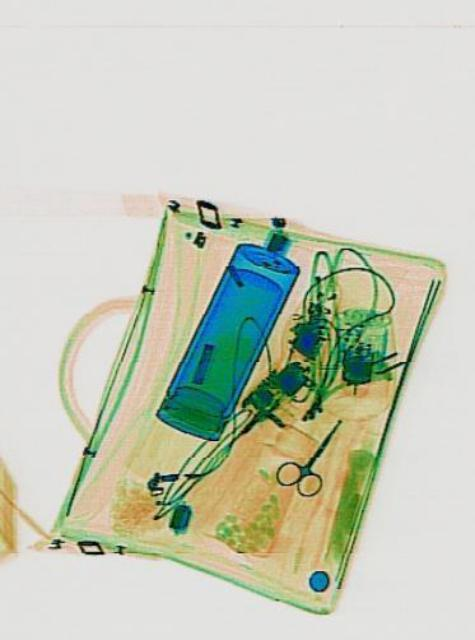Scissors: (269, 400, 354, 510)
